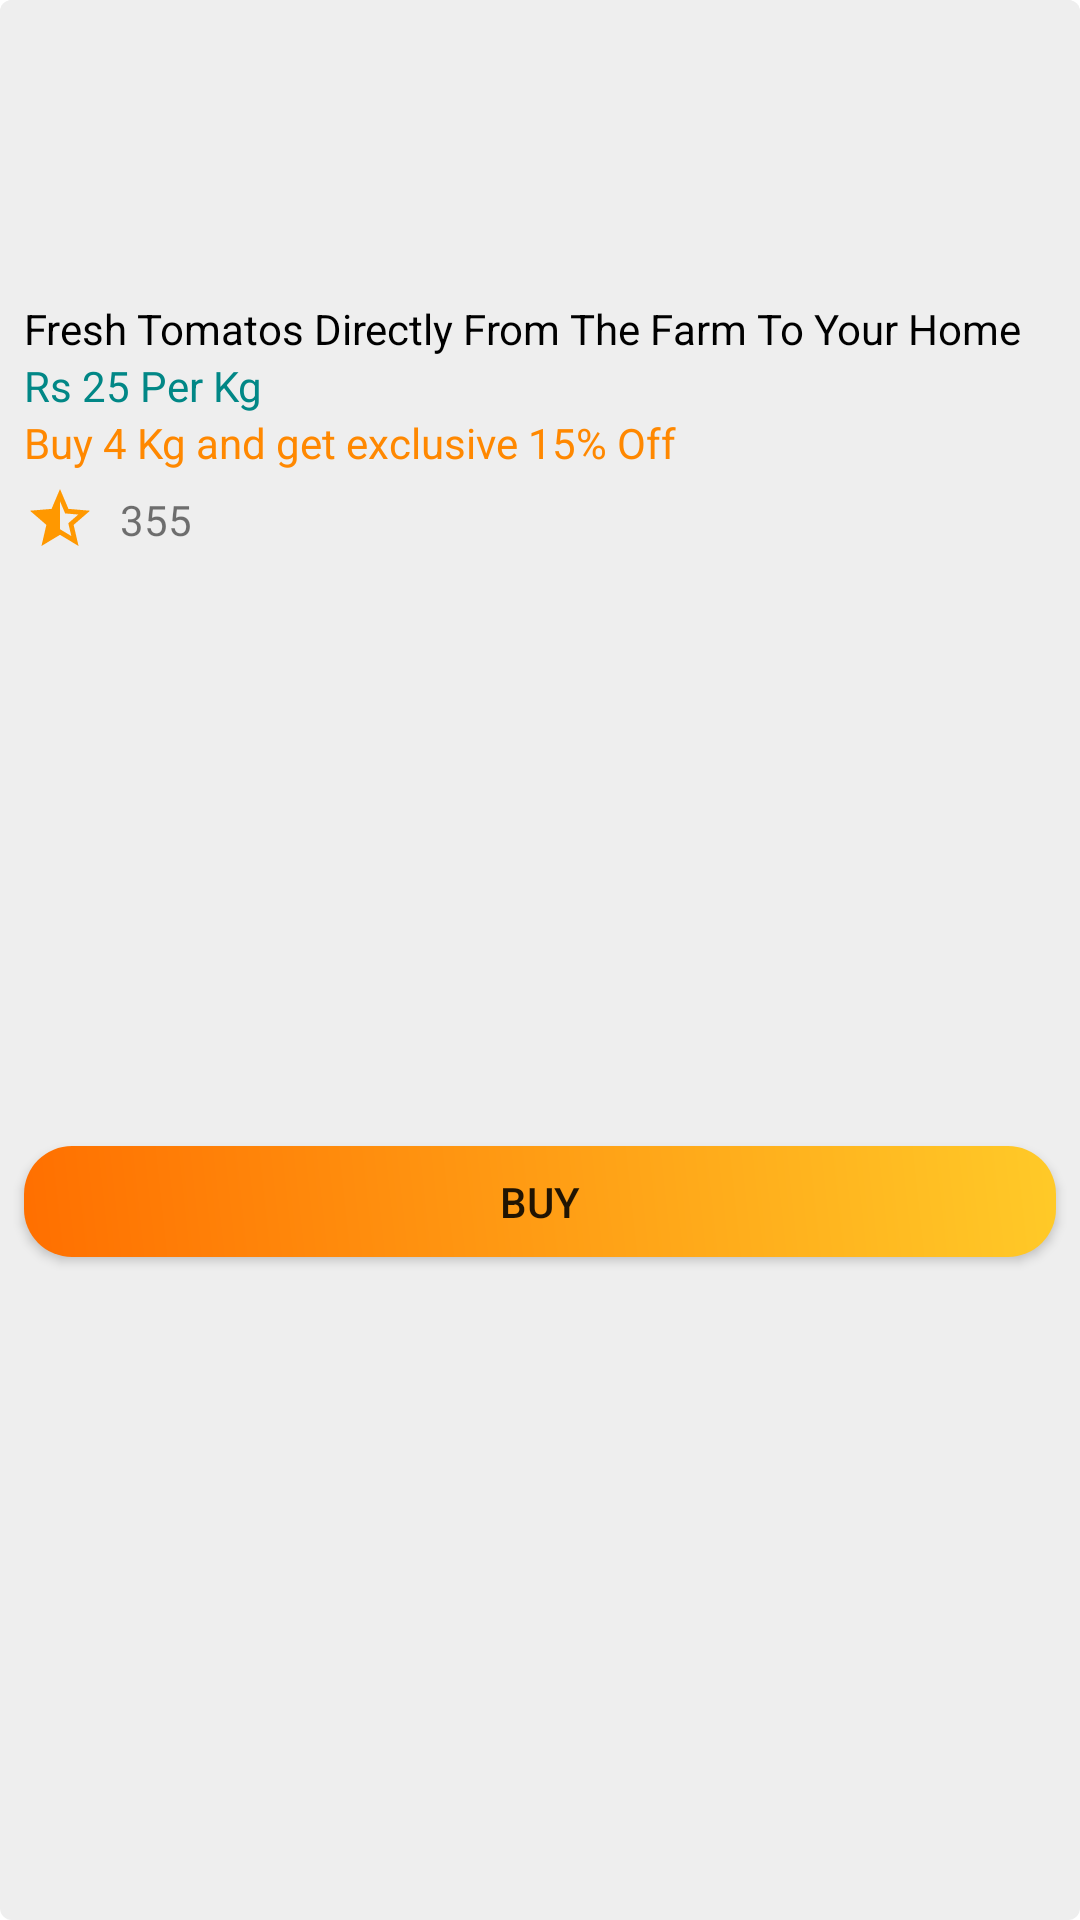

Screen size 1080w x 1920h. Icon name, then its box in pixels as (x1, y1, x2, y2):
star half: (30, 489, 90, 546)
